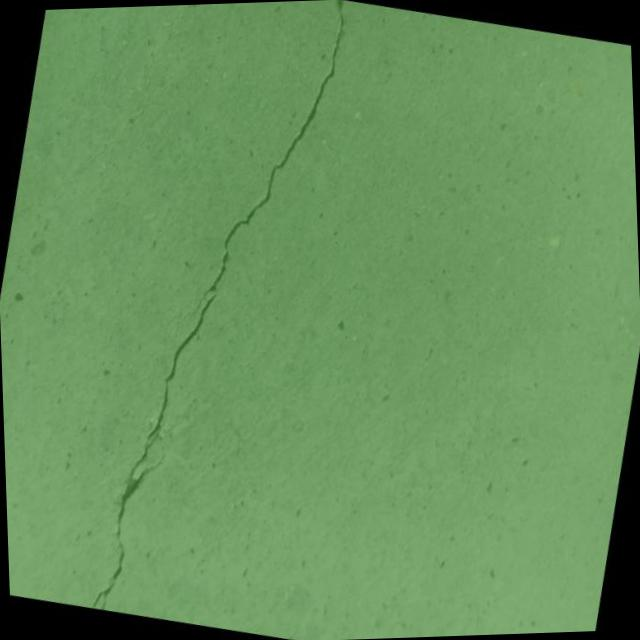crack: (70, 0, 372, 638), (79, 86, 152, 180), (172, 3, 221, 38)
